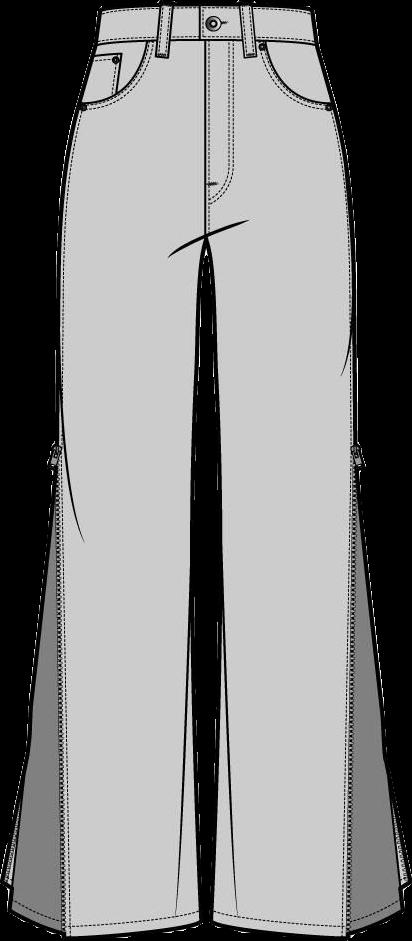Hemline: (210, 889, 408, 938), (7, 900, 199, 940)
Pantleg: (198, 3, 411, 937), (0, 6, 204, 937)
Waistline: (89, 28, 320, 49), (94, 0, 312, 16)
